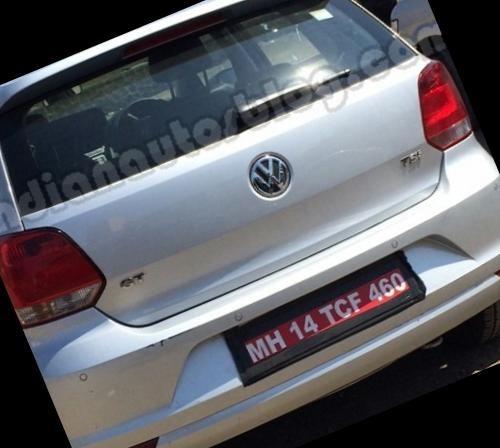plate: (220, 245, 434, 384)
